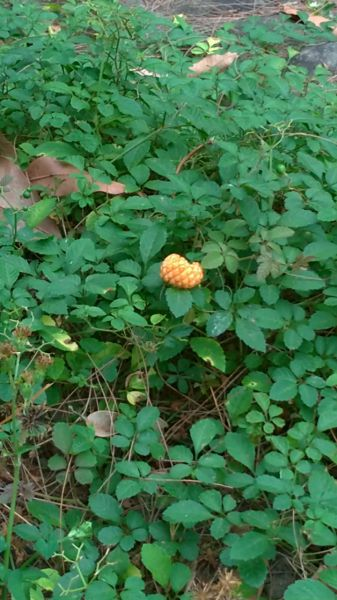eggs: (157, 252, 208, 294)
